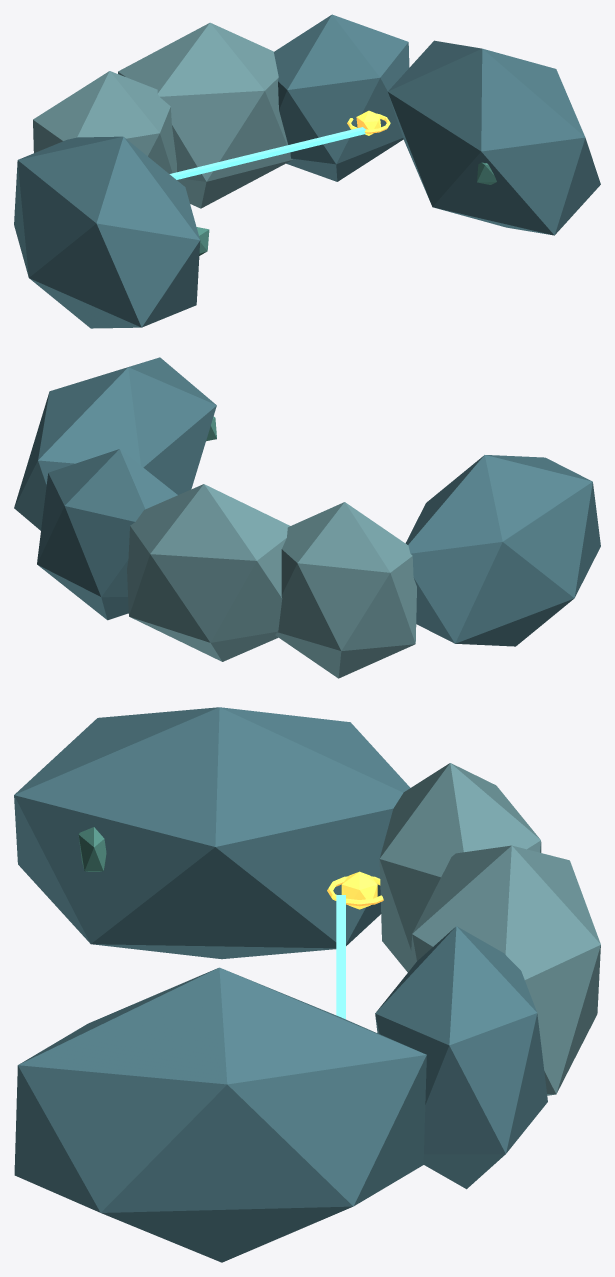
File: wavebreak_arch_refined.glb
3 renders of one model, top to bottom at view 1: azimuth 30°, elevation 25°; view 2: azimuth 150°, elevation 25°; view 3: azimuth 270°, elevation 25°, orthographic. The views are drawn at different scales.
Visible parts, largest first — view 1: Arch_Left, Arch_Right, Arch_Top_Center, Arch_Top_Right, Arch_Top_Left, GateUpperStripe; view 2: Arch_Left, Arch_Top_Center, Arch_Top_Left, Arch_Right, Arch_Top_Right; view 3: Arch_Right, Arch_Left, Arch_Top_Right, Arch_Top_Center, Arch_Top_Left, GateUpperStripe, ArchMossPatch, GateBeacon.
Boxes of the visible parts, x1,y1,x2,y2 form: Arch_Left: (14,136,200,328); Arch_Right: (388,40,600,235); Arch_Top_Center: (118,22,292,208); Arch_Top_Right: (274,14,409,181); Arch_Top_Left: (33,71,176,173); GateUpperStripe: (169,127,365,179); Arch_Left: (405,455,600,646); Arch_Top_Center: (127,484,289,661); Arch_Top_Left: (275,502,416,678); Arch_Right: (14,357,216,530); Arch_Top_Right: (37,449,177,620); Arch_Right: (14,967,426,1262); Arch_Left: (14,707,410,959); Arch_Top_Right: (375,926,547,1189); Arch_Top_Center: (410,845,600,1095); Arch_Top_Left: (379,763,541,972); GateUpperStripe: (336,895,345,1019); ArchMossPatch: (78,827,106,871); GateBeacon: (341,871,377,909).
Bounding box in the file's own units: 14.79 × 4.95 × 9.5.
